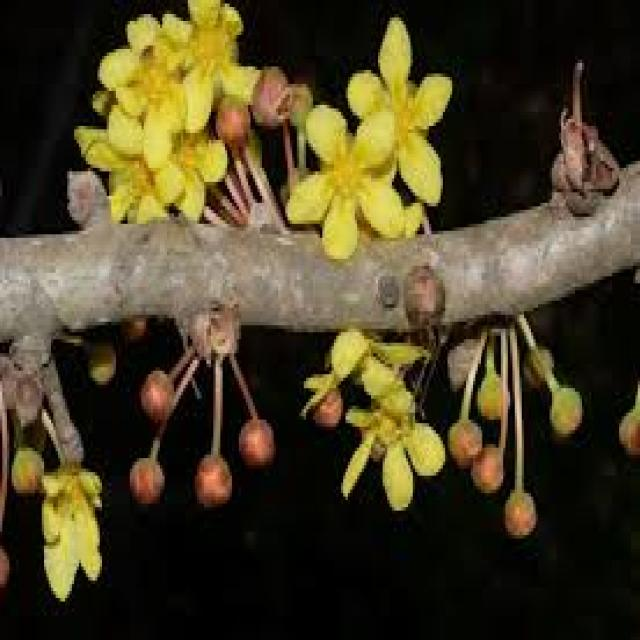Simpoh-Lak: (445, 300, 603, 546), (123, 346, 280, 514), (253, 52, 299, 133), (208, 91, 260, 157), (466, 437, 517, 493), (496, 479, 540, 539), (193, 448, 234, 510), (125, 454, 172, 504), (448, 406, 482, 472), (545, 381, 580, 444), (141, 364, 181, 419), (239, 412, 278, 468)
